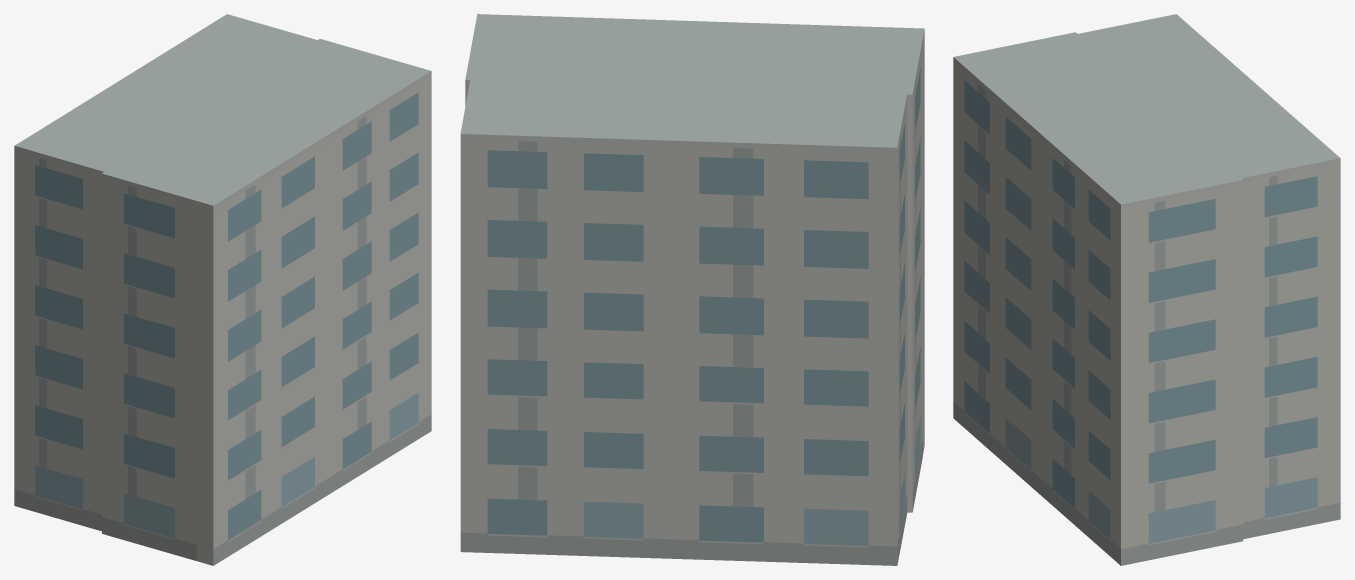
File: survey-upis-32992738.glb
3 renders of one model, left to right at view 1: azimuth 30°, elevation 25°; view 2: azimuth 150°, elevation 25°; view 3: azimuth 270°, elevation 25°, orthographic. The views are drawn at different scales.
Visible parts, largest first — view 1: survey-upis-32992738.tmp; view 2: survey-upis-32992738.tmp; view 3: survey-upis-32992738.tmp.
Part boxes in pixels (x1,y1,x2,y2): survey-upis-32992738.tmp: [14, 14, 431, 565]; survey-upis-32992738.tmp: [460, 14, 924, 565]; survey-upis-32992738.tmp: [953, 14, 1340, 565].
Size of the model in its own units: 20.83 by 18.4 by 17.88.
